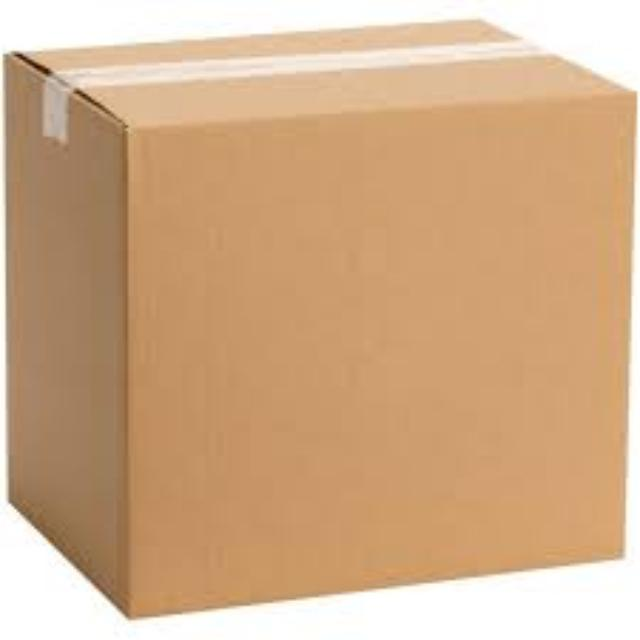cardboard paper: (9, 20, 629, 612)
